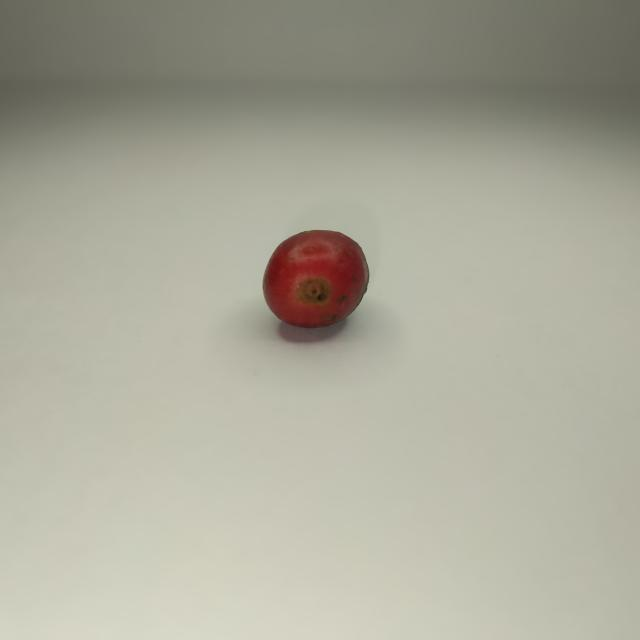Infectado: (263, 230, 368, 329)
